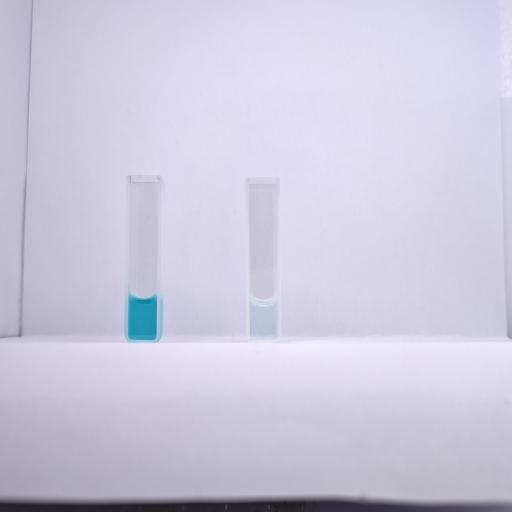cuvette: (243, 173, 283, 346), (123, 172, 163, 344)
liquid: (128, 295, 157, 340), (250, 299, 276, 340)
